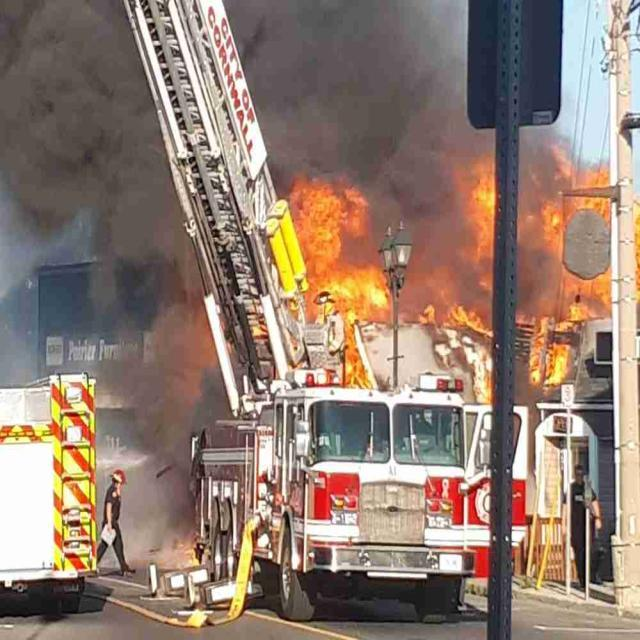Fire: (285, 174, 391, 388), (458, 151, 496, 296), (528, 302, 590, 388), (420, 302, 494, 334), (552, 141, 582, 218), (536, 195, 566, 254), (582, 168, 610, 228), (584, 263, 611, 313), (559, 264, 584, 296), (473, 371, 493, 406), (633, 205, 640, 301)
Smoke: (0, 0, 188, 260), (224, 0, 470, 171), (99, 304, 232, 478), (371, 172, 459, 302), (123, 480, 185, 566), (516, 136, 544, 256), (0, 321, 46, 389), (518, 254, 560, 317)
